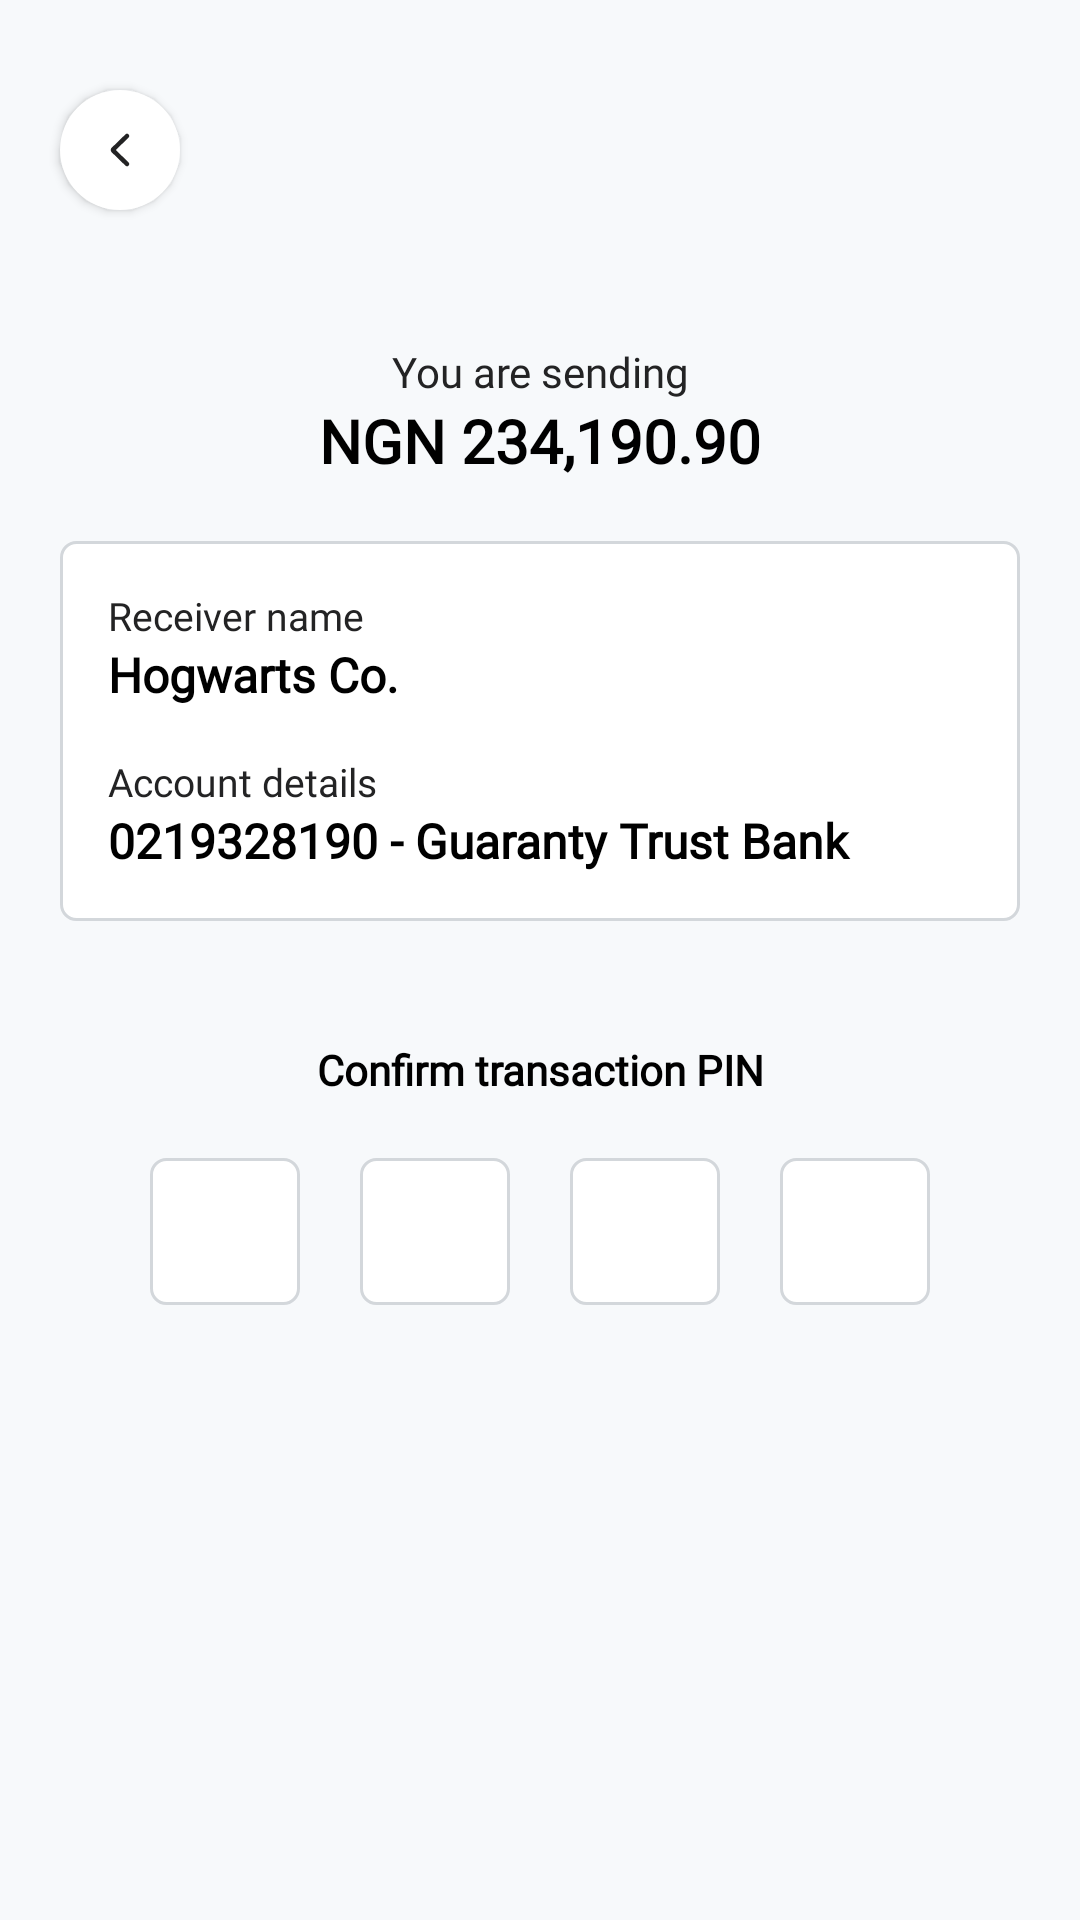

Named icons in this screenshot (1080px x 1920px) and their centers, (x,y):
nav: (120,150)
